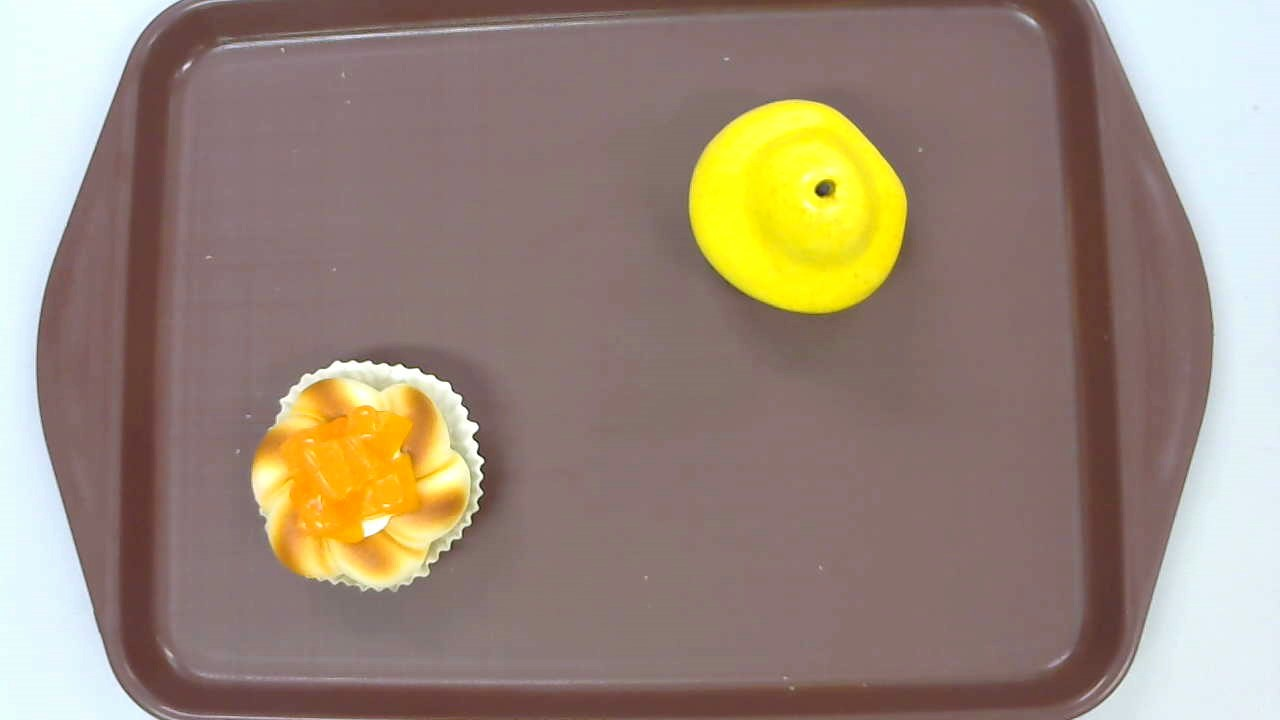mango tart: (250, 358, 484, 595)
yellow pear: (689, 97, 906, 316)
